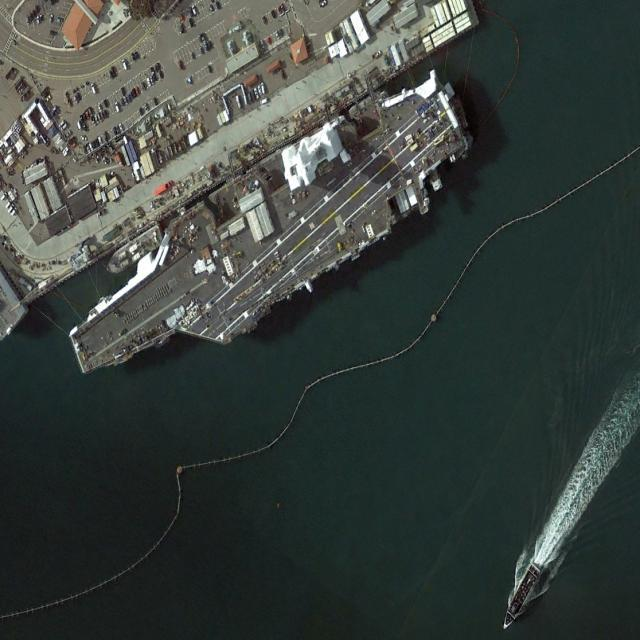Aircraft Carrier: (53, 44, 488, 428)
Other Ship: (498, 561, 541, 634)
